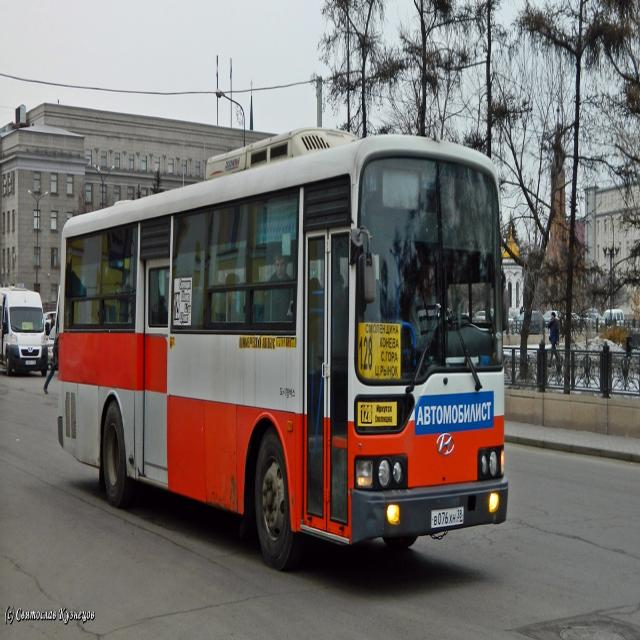number-of-bus: (359, 335, 375, 374), (361, 407, 374, 425)
